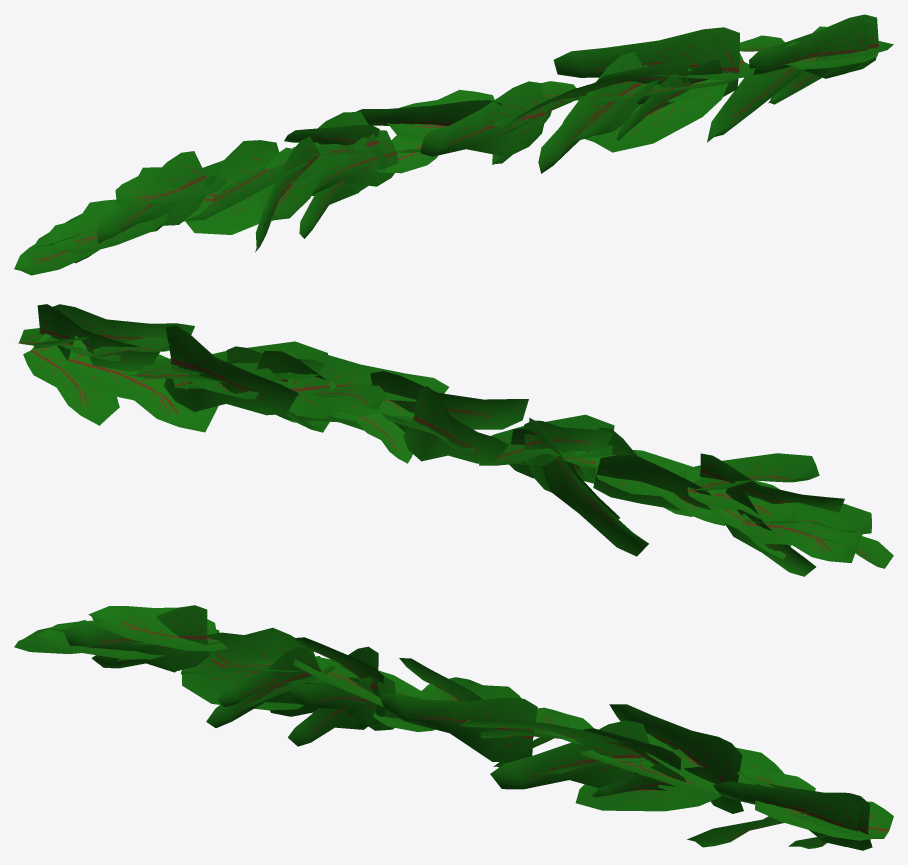
The model's file is Guirlanda_V2.fbx.
The picture shows the model from 3 angles, top to bottom: view 1: azimuth 30°, elevation 25°; view 2: azimuth 150°, elevation 25°; view 3: azimuth 330°, elevation 25°; orthographic projection.
Visible parts, largest first — view 1: Guirlanda_V2; view 2: Guirlanda_V2; view 3: Guirlanda_V2.
Boxes of the visible parts, box(x1,y1,x2,y2) form: Guirlanda_V2: box(14, 14, 893, 275); Guirlanda_V2: box(18, 304, 893, 576); Guirlanda_V2: box(14, 605, 893, 850).
Bounding box in the file's own units: 338 × 40.61 × 42.1.
